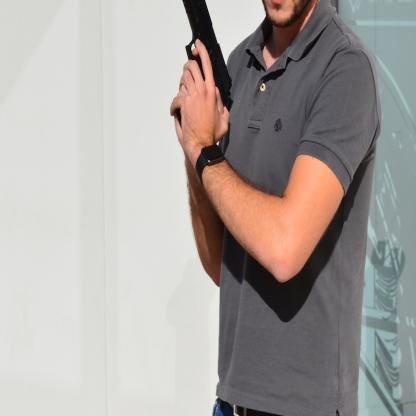gun: (174, 0, 233, 129)
